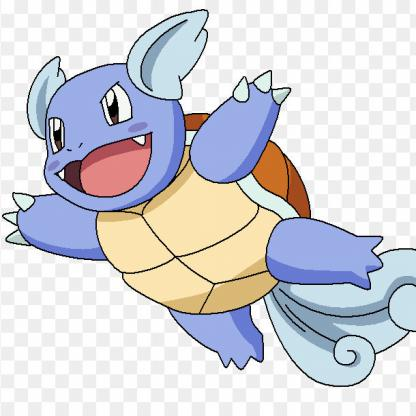Wartortle: (1, 1, 416, 408)
